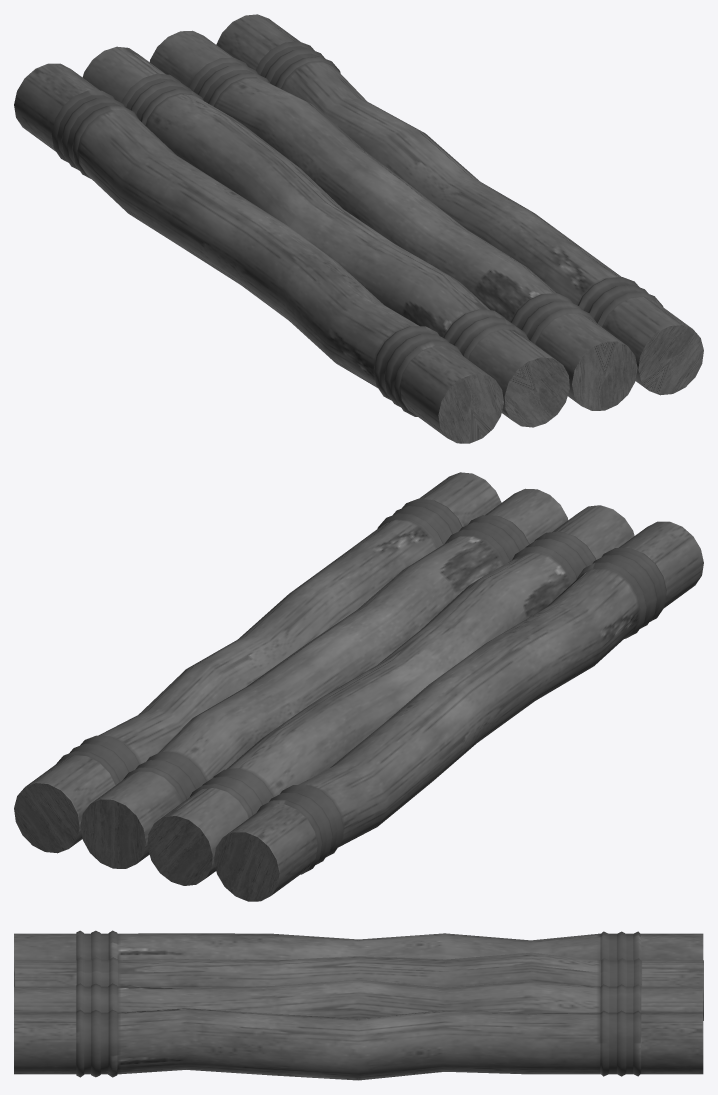
Rendered from Raft4_Gray.gltf.
3 views of the same model, one above another, from view 1: azimuth 30°, elevation 25°; view 2: azimuth 150°, elevation 25°; view 3: azimuth 270°, elevation 25° (orthographic). The views are drawn at different scales.
Parts seen in each view (by area): view 1: Mesh_0.001; view 2: Mesh_0.001; view 3: Mesh_0.001.
Boxes of the visible parts, x1,y1,x2,y2 form: Mesh_0.001: (14,14,703,443); Mesh_0.001: (14,472,703,901); Mesh_0.001: (14,930,703,1080).
Bounding box in the file's own units: 4.16 × 1.24 × 11.17.
Materials: 1 (1 with a texture image).
